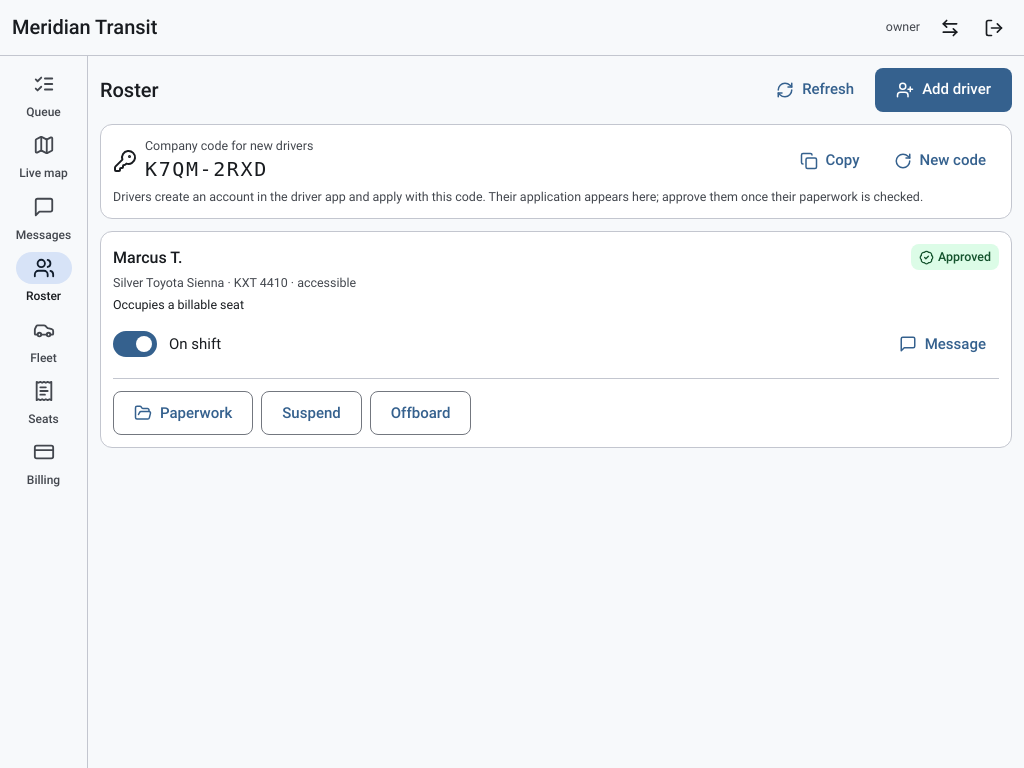
Test: the roster › adds an existing account by its exact address, as pending approval
Click the button "Add driver" at (944, 90), box [875,68,1012,112]
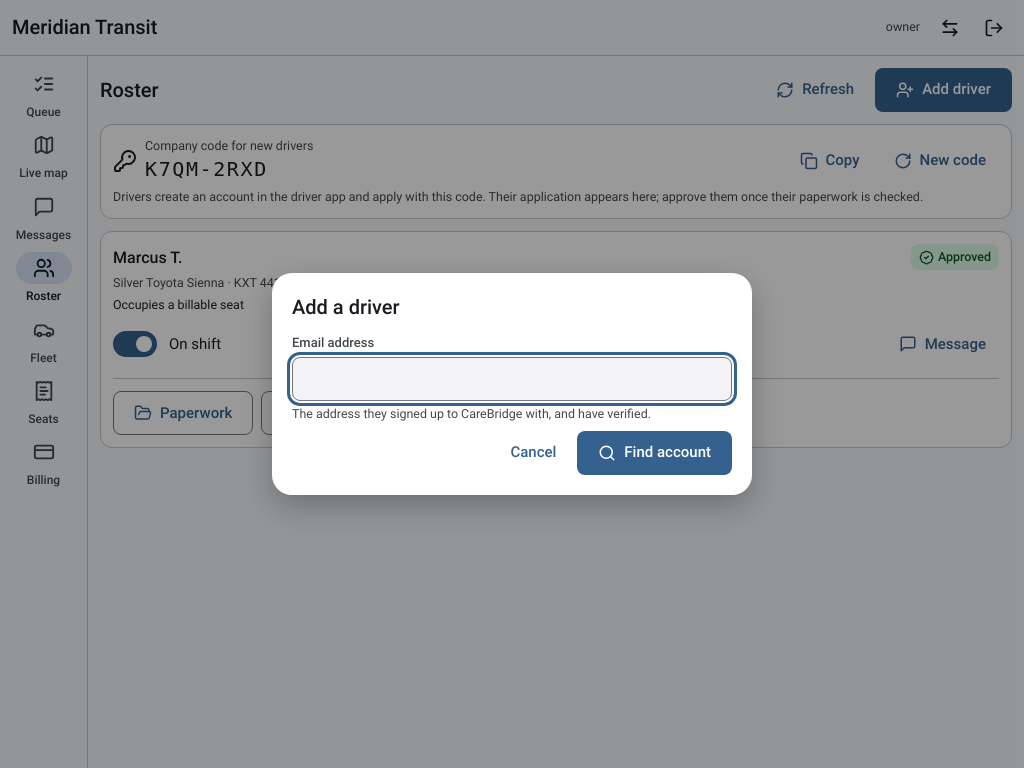
Nobody it can add is said under the field, with the server's words.
Type "nobody@example.com" into the field labelled "Email address" at (512, 379), box [292,357,732,401]
Click the button "Find account" at (655, 453), box [577,431,732,475]
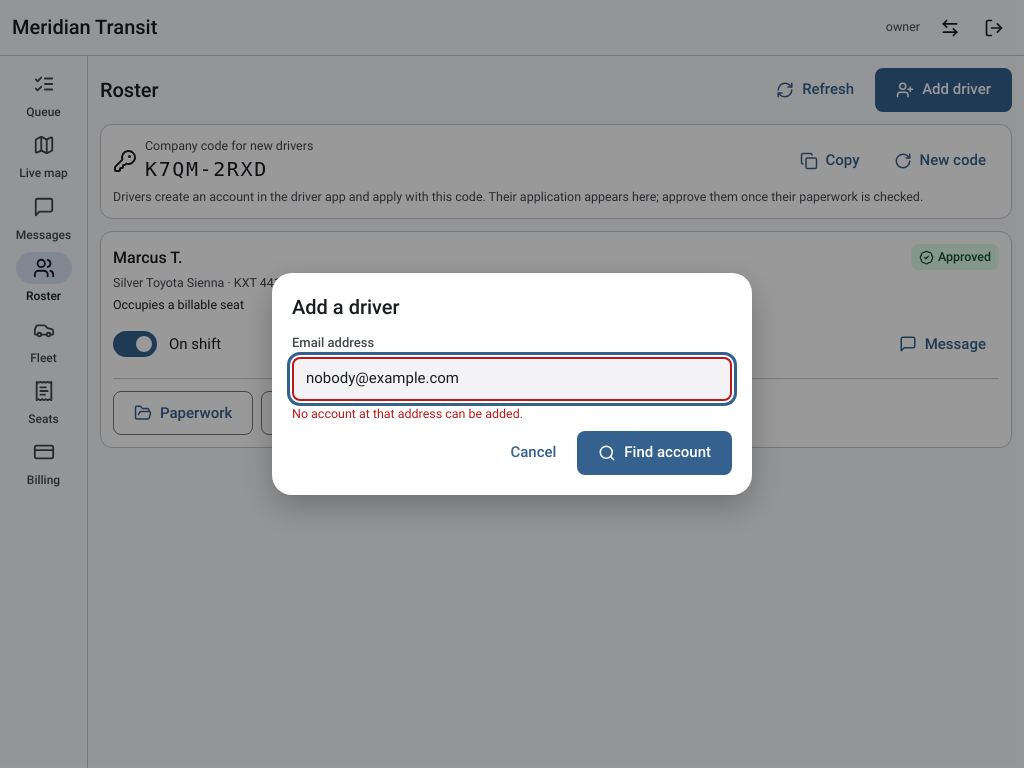
Now the text "No account at that address can be added." is shown, box [292,406,523,421]
Replace the text in the field labelled "Email address" with "kenji@example.com" at (512, 379), box [292,357,732,401]
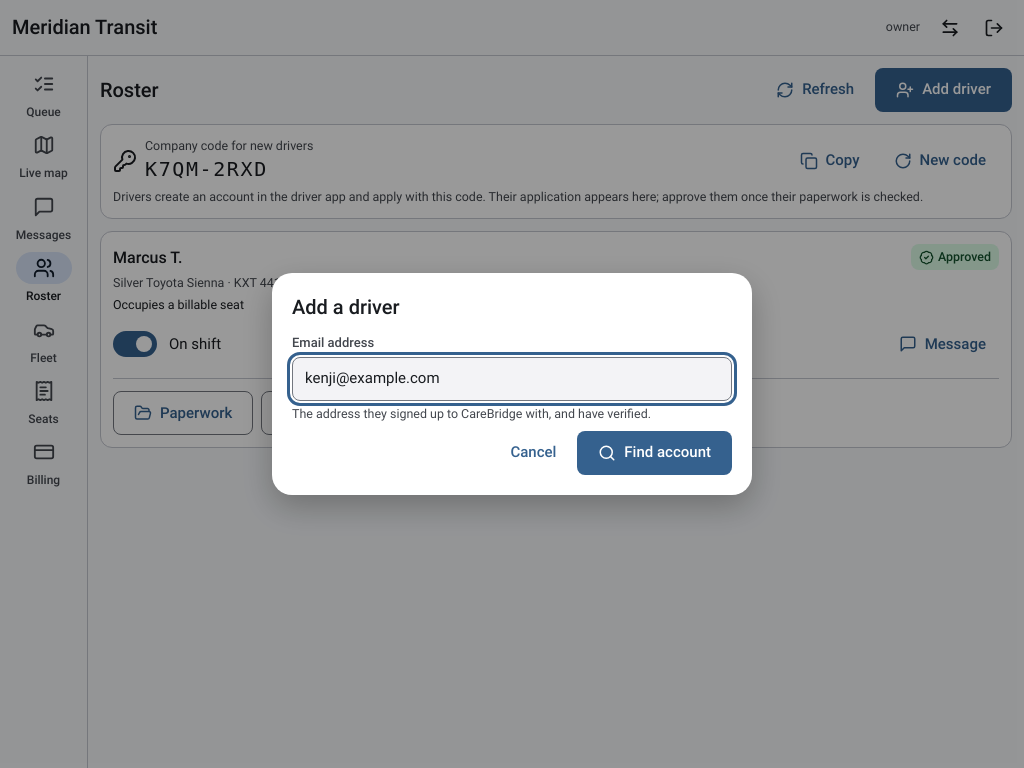
Click the button "Find account" at (655, 453), box [577,431,732,475]
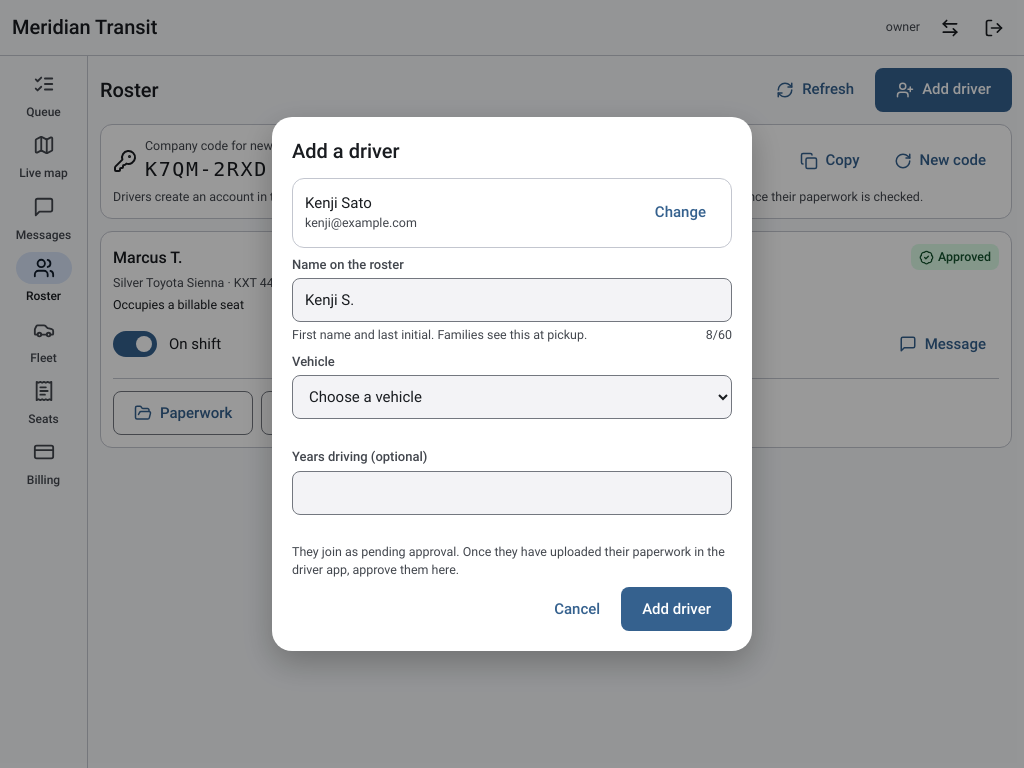
Now the text "Kenji Sato" is shown, box [305,194,372,212]
Now the field labelled "Name on the roster" holds "Kenji S.", box [292,278,732,322]
A vehicle is required before it will go.
Click the button "Add driver" at (677, 609), box [621,587,732,631]
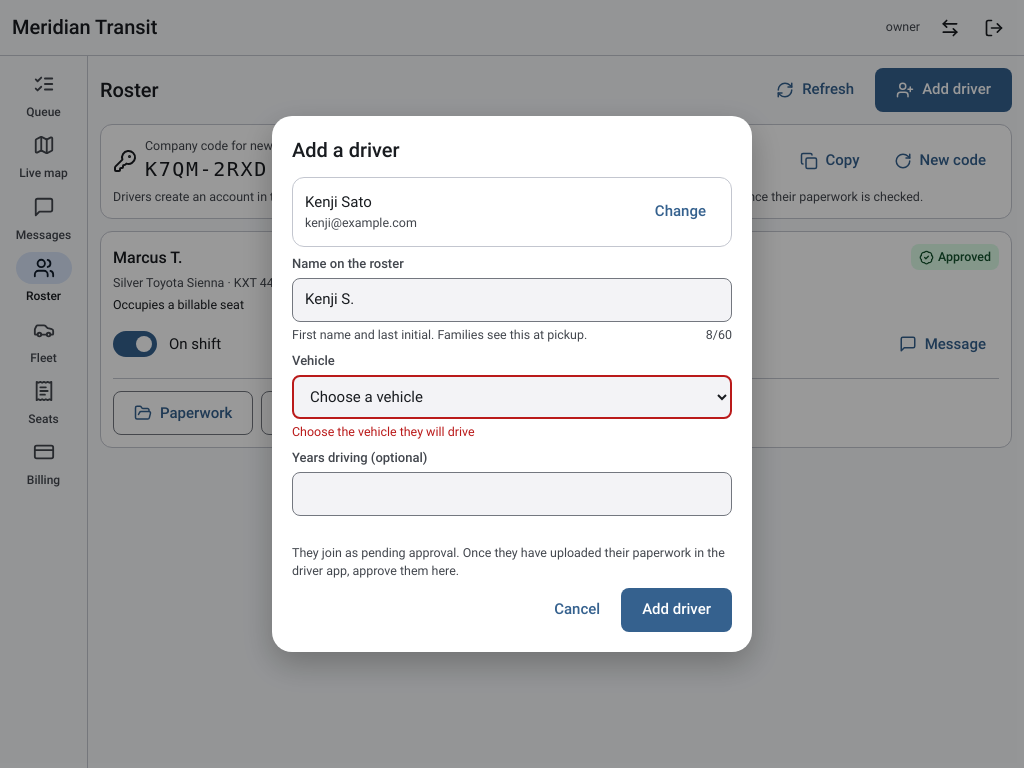
Now the text "Choose the vehicle they will drive" is shown, box [292,424,474,439]
Select "Silver Toyota Sienna · KXT 4410 · accessible" in the dropdown labelled "Vehicle" at (512, 397), box [292,375,732,419]
Click the button "Add driver" at (677, 610), box [621,588,732,632]
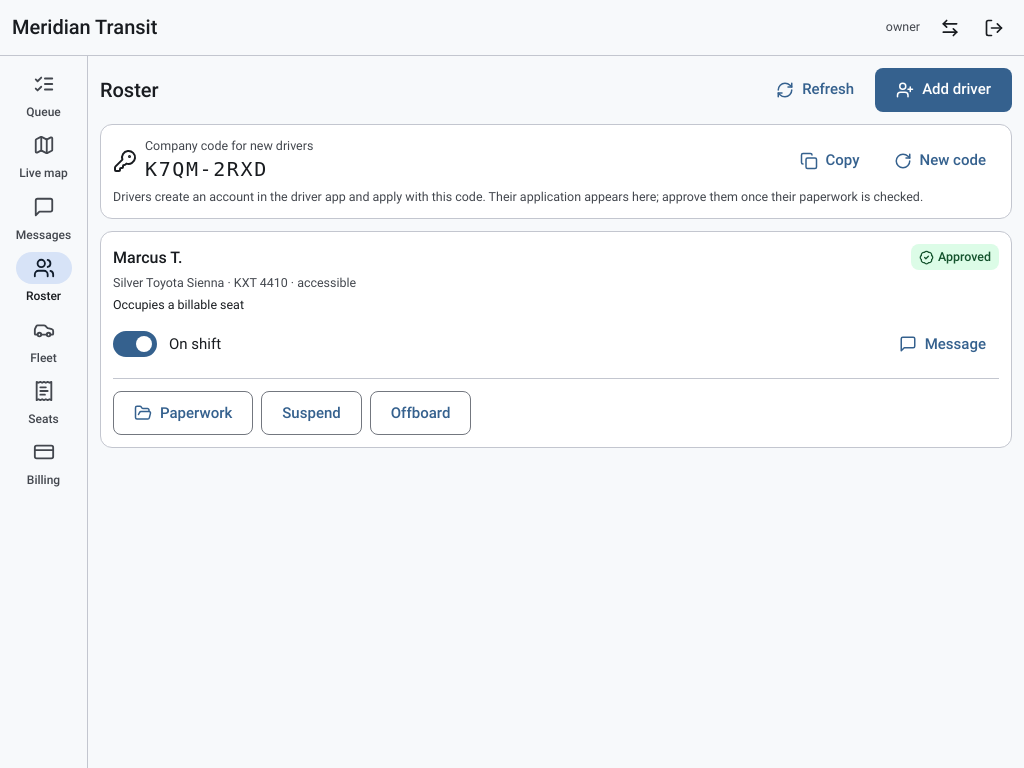
Now the heading "Add a driver" is gone
